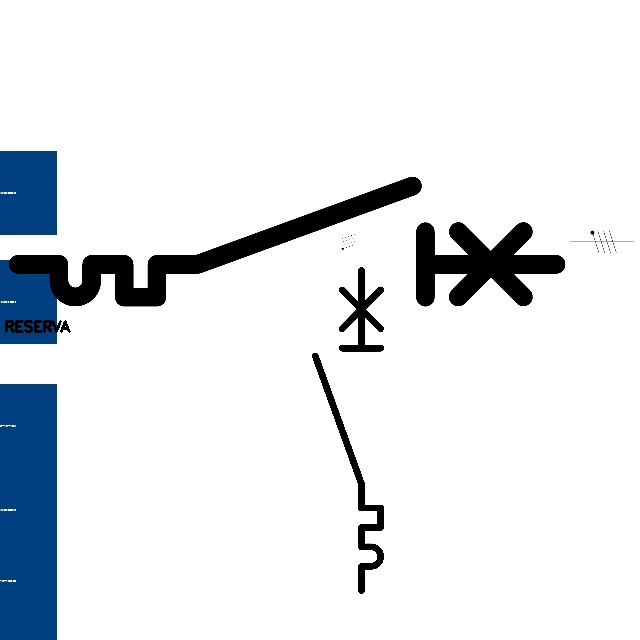interruptor_termomagnetico: (4, 172, 570, 311), (307, 262, 389, 599)
